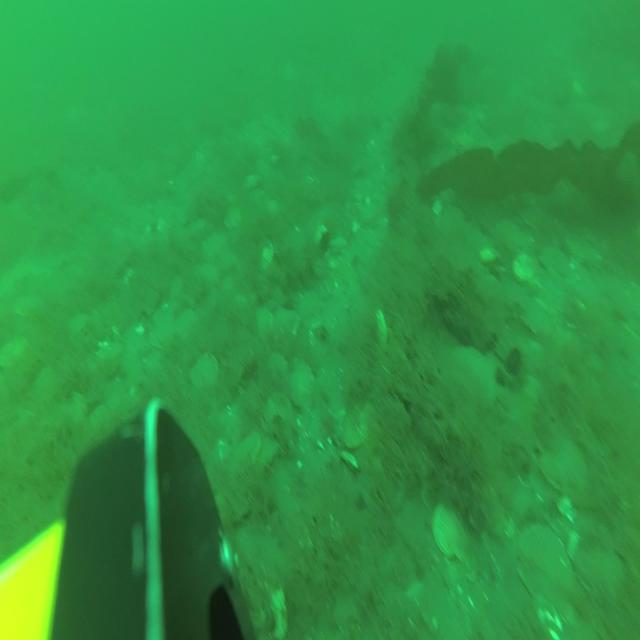scallop: (518, 526, 576, 612), (452, 346, 498, 418), (540, 437, 590, 498), (578, 535, 624, 600), (433, 502, 472, 564), (288, 360, 313, 406), (342, 410, 370, 451), (520, 297, 548, 338), (1, 336, 30, 374), (231, 431, 260, 469), (265, 391, 290, 435), (538, 244, 569, 278), (253, 440, 281, 477), (189, 350, 216, 388), (152, 314, 178, 351), (512, 252, 536, 286), (16, 291, 42, 320), (200, 232, 224, 262), (224, 202, 244, 237), (258, 238, 275, 273)
